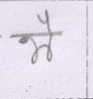o_matra: (44, 8, 55, 60)
